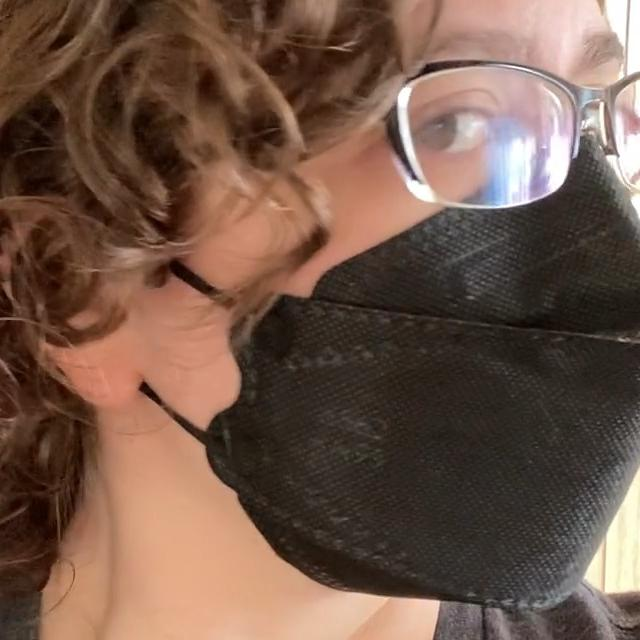Mask: (75, 127, 640, 609)
Person: (0, 0, 640, 640)
